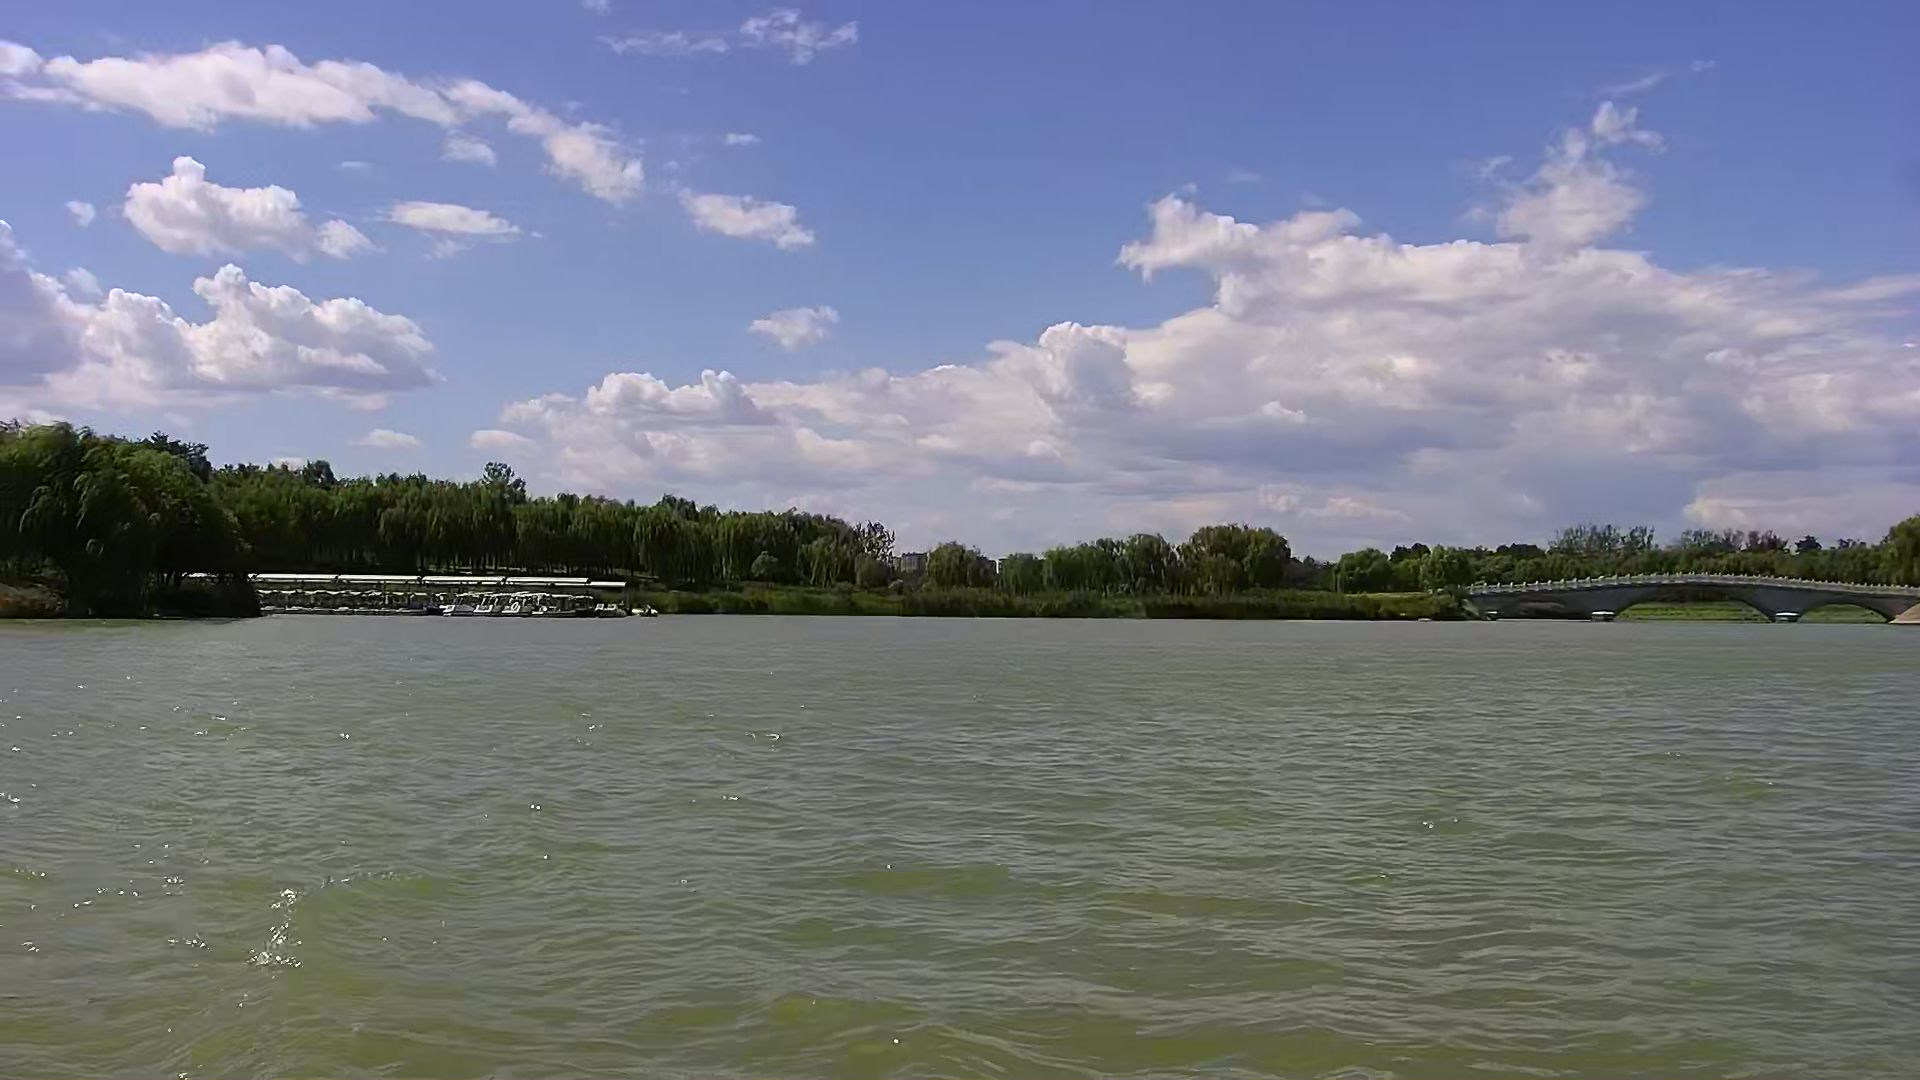bridge: (1469, 568, 1920, 622)
harbor: (251, 570, 657, 621)
